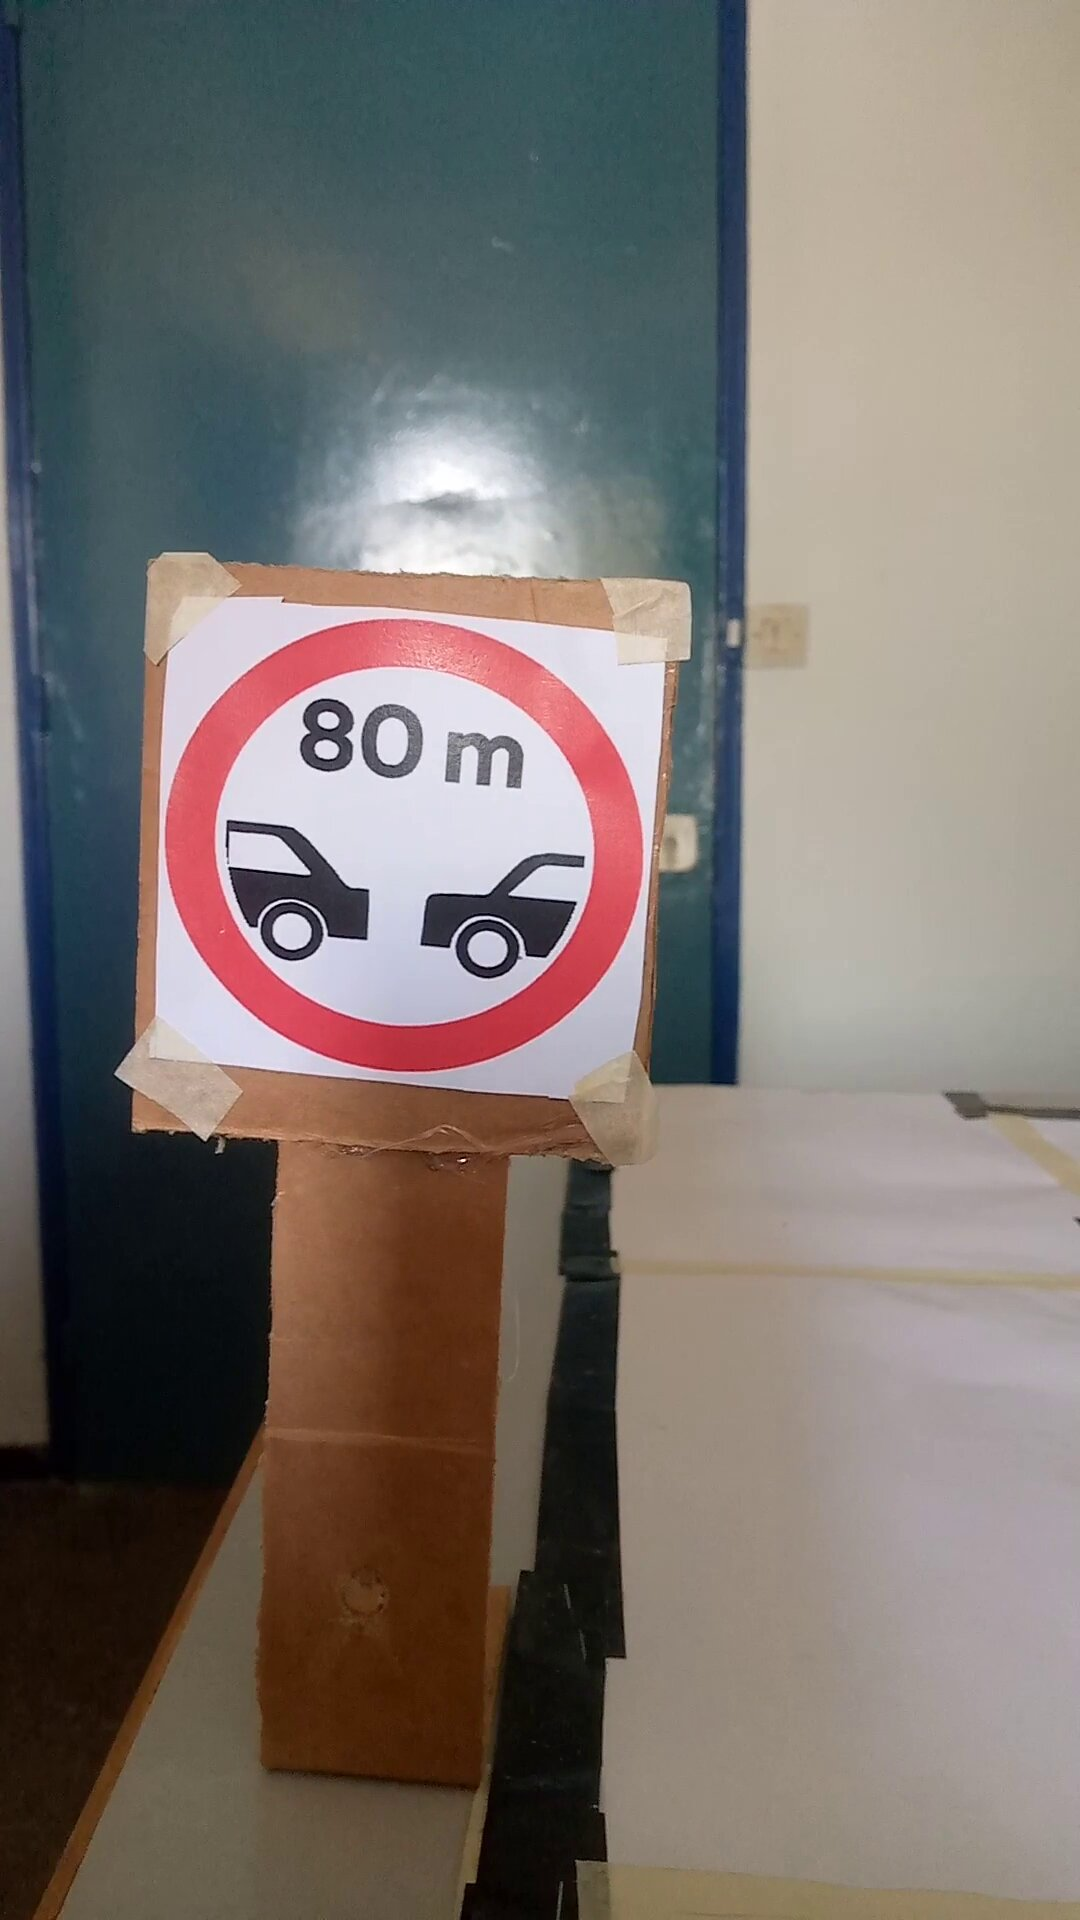panel001: (144, 554, 680, 1139)
